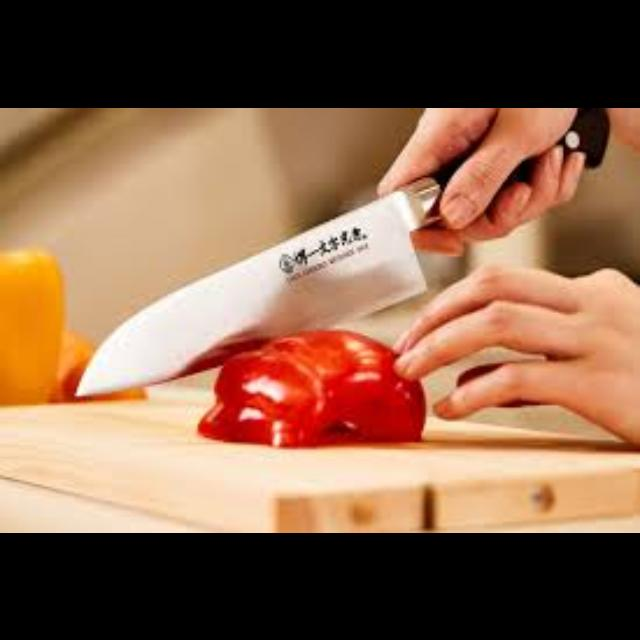knife: (72, 107, 610, 397), (354, 114, 640, 480), (384, 108, 608, 245)
